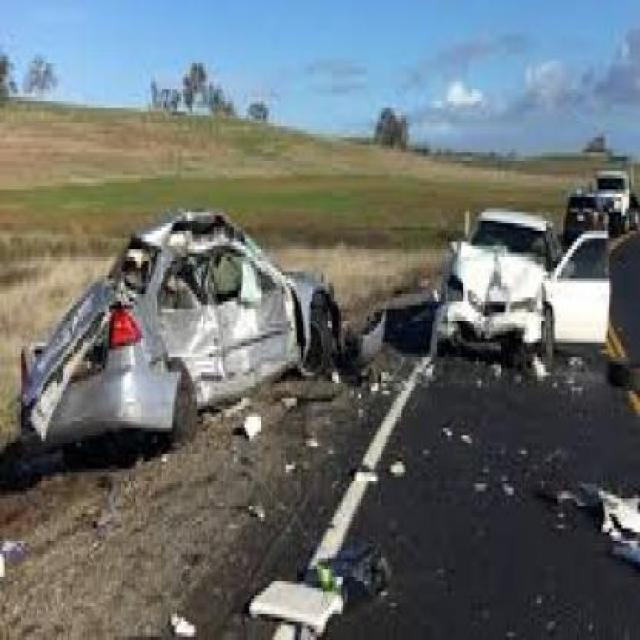accident: (11, 187, 352, 493), (407, 166, 621, 428)
